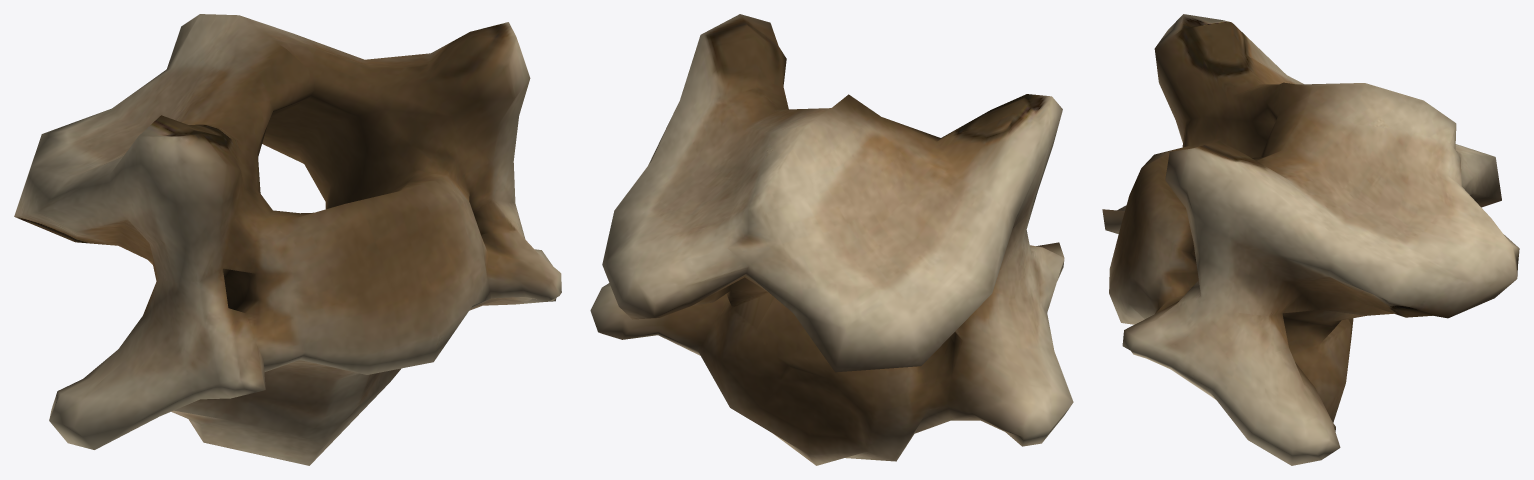
3 views of the same model, side by side, from view 1: azimuth 30°, elevation 25°; view 2: azimuth 150°, elevation 25°; view 3: azimuth 270°, elevation 25° (orthographic). The views are drawn at different scales.
Parts seen in each view (by area): view 1: C8:Group16203; view 2: C8:Group16203; view 3: C8:Group16203.
Part boxes in pixels (left/top/right/bottom): C8:Group16203: left=14, top=14, right=561, bottom=465; C8:Group16203: left=590, top=14, right=1073, bottom=465; C8:Group16203: left=1102, top=14, right=1519, bottom=465.
Size of the model in its own units: 34.55 by 27.77 by 28.77.
1 material, 1 textured.
